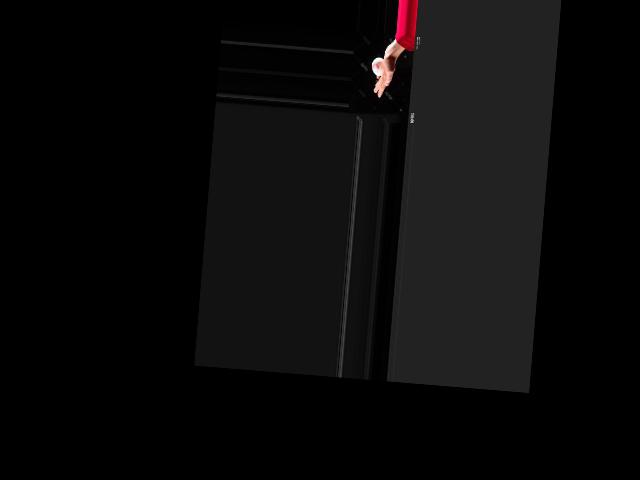egg: (371, 56, 384, 75)
